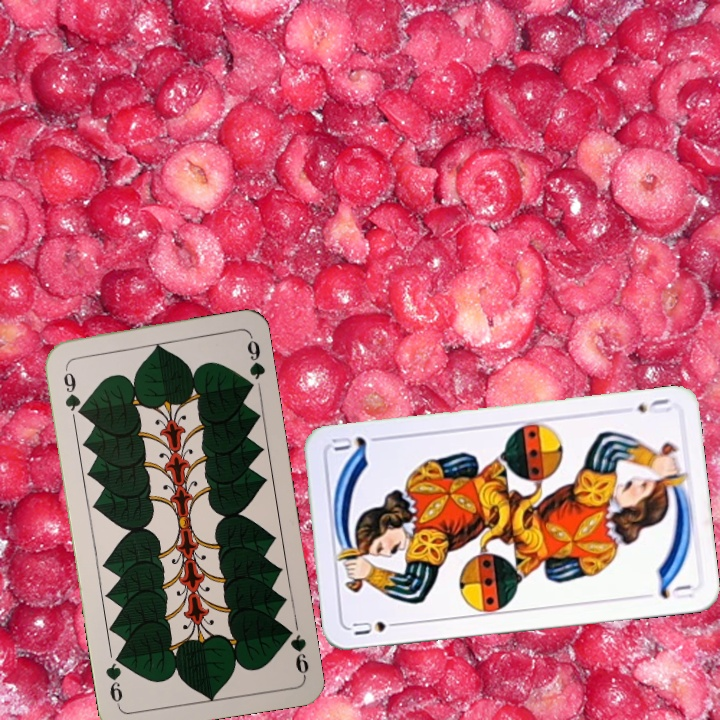G9: (280, 622, 312, 679), (59, 362, 86, 420)
SU: (348, 614, 406, 638), (633, 394, 673, 417)
